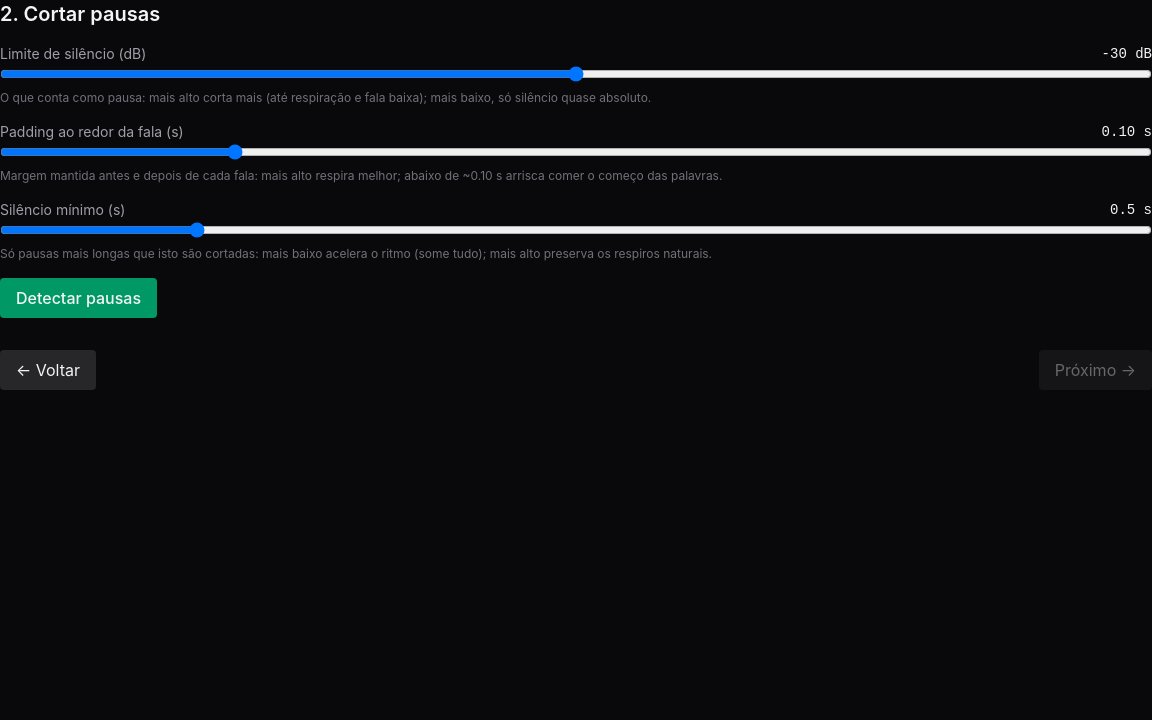
Test case: CutsStep — versão do preview › troca de versão depois de detectar pausas
Step 1. Click the button "Detectar pausas" → (78, 298), box [0,278,157,318]
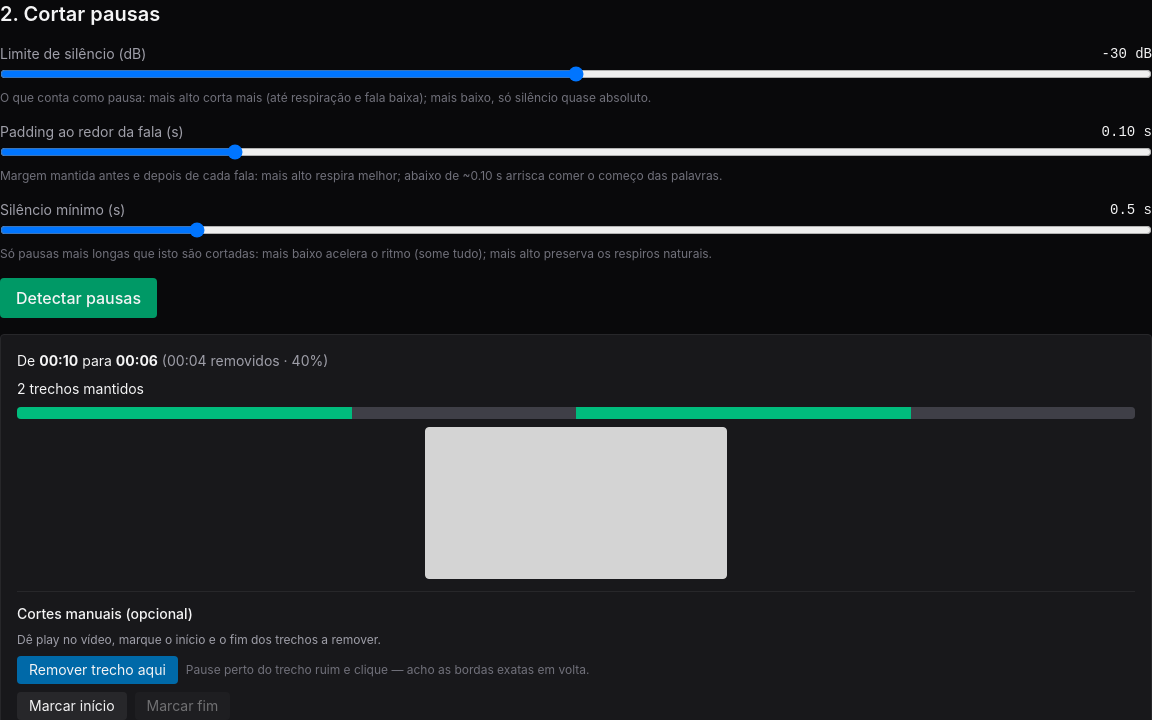
Expected: the text "2 trechos mantidos" is shown, [17,380,144,397]
